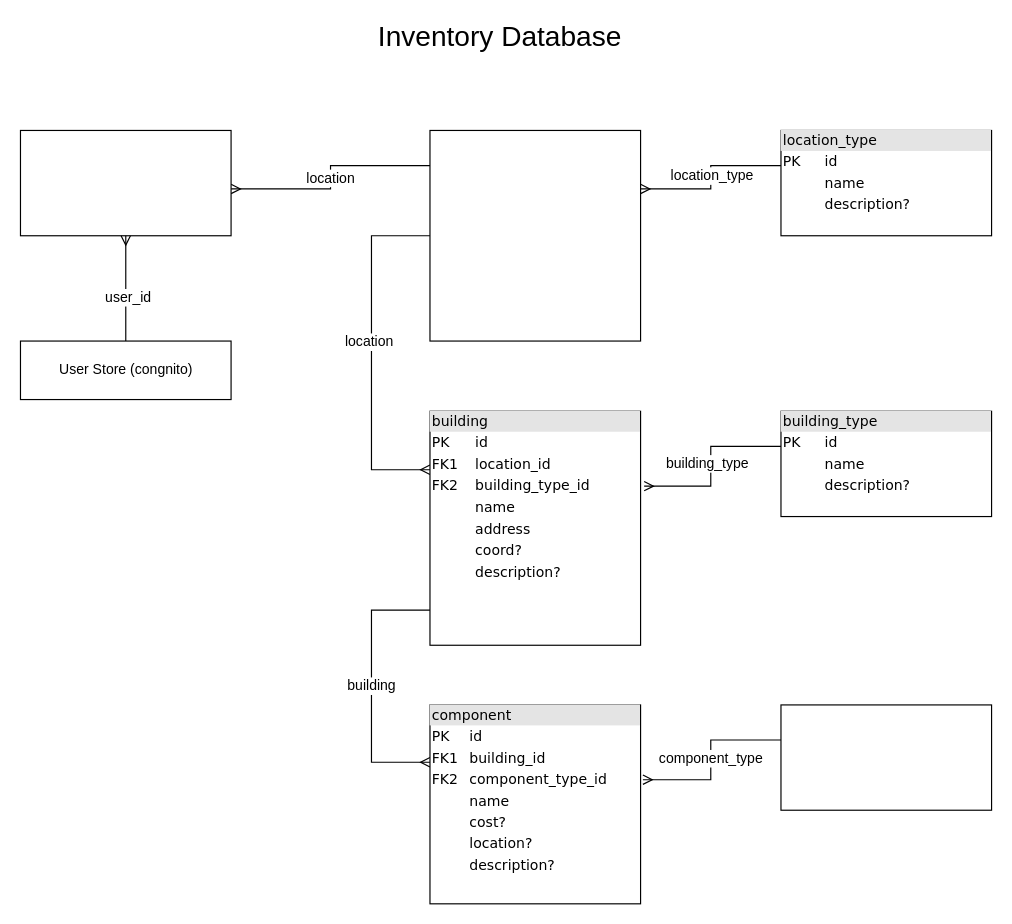
This 1012x924 diagram has some shape labels left out. Each missing label, with the centre of its shape:
"component_type PK id name description?" goes at (x=886, y=757).
"location PK id FK1 location_type_id name coord? notes?" goes at (x=535, y=235).
"user_location PK id FK1 location_id user_id" goes at (x=125, y=182).
